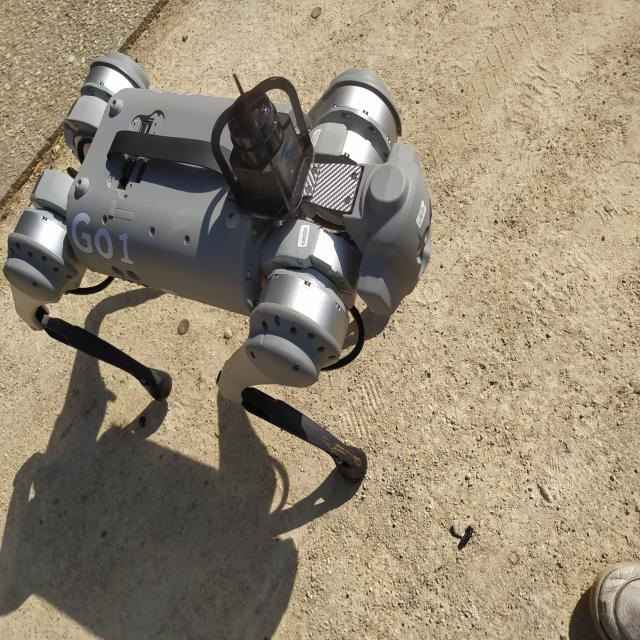unitree-go1-robot: (1, 21, 449, 517)
